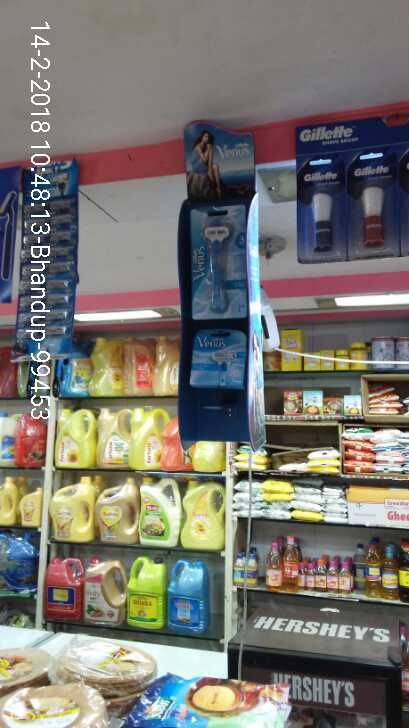beauty: (190, 205, 248, 319), (344, 161, 398, 257), (298, 166, 343, 259), (189, 334, 244, 388)
